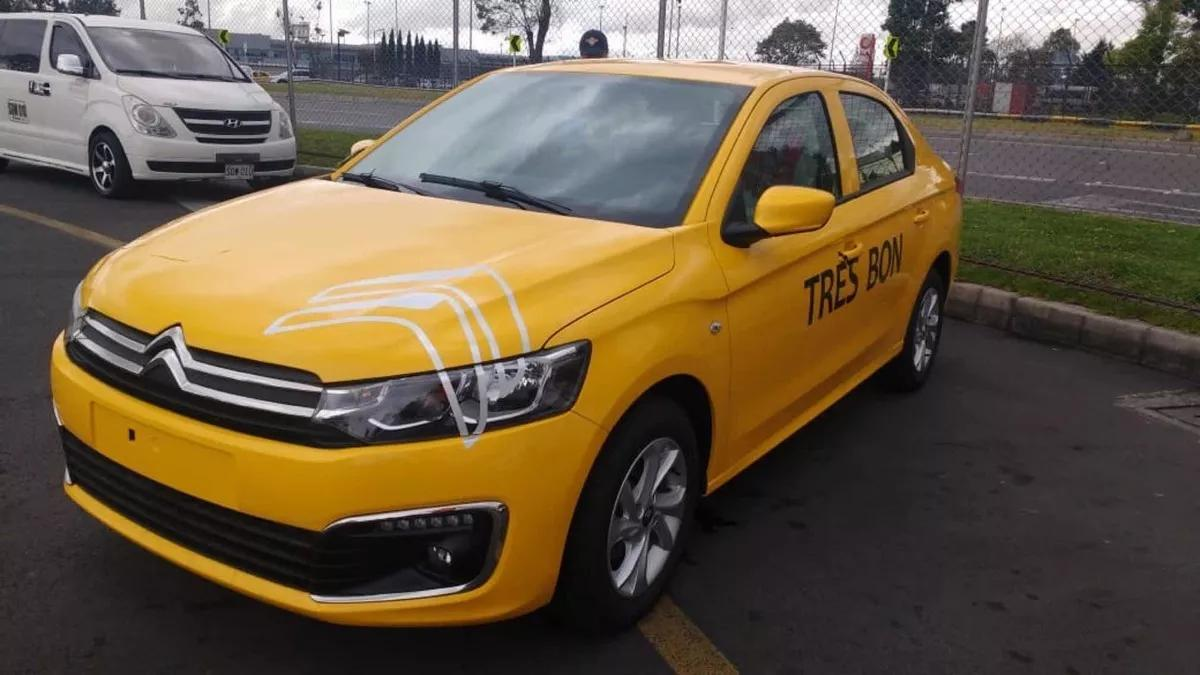taxi: (103, 25, 1087, 555)
